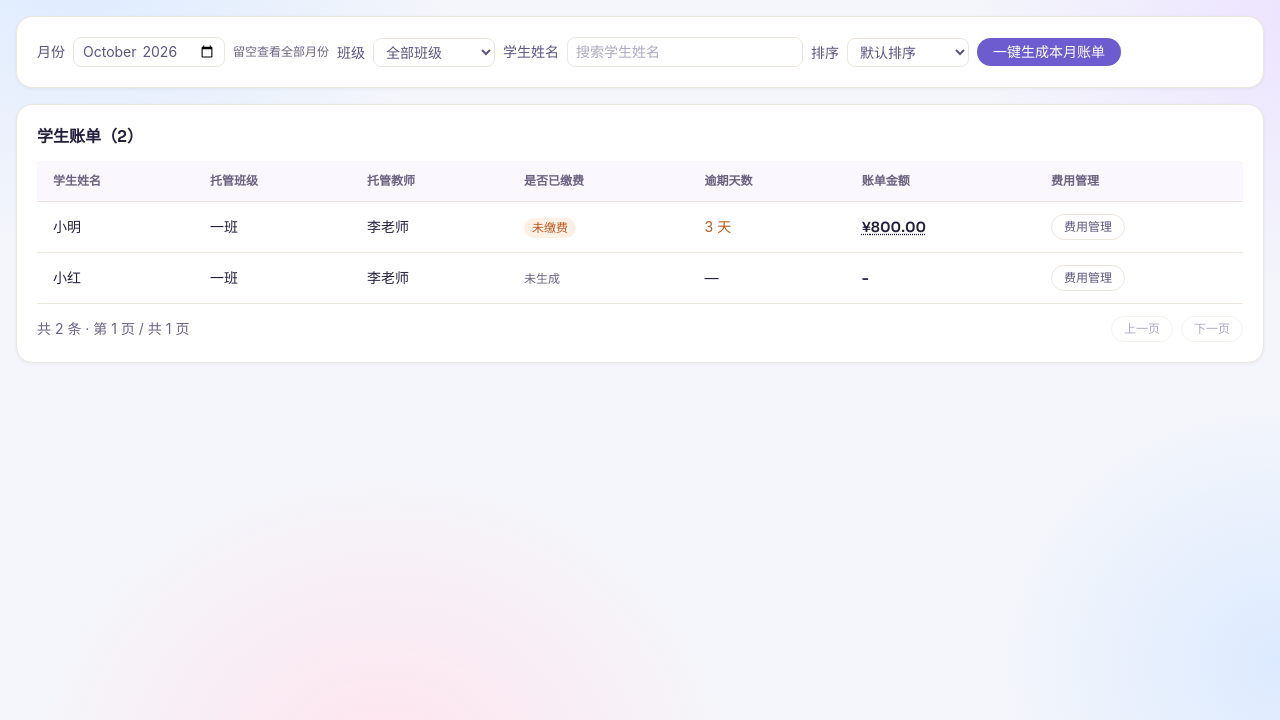
Test: AdminBillingModule › requires a payment method before confirming a paid toggle, then submits it
Expected: the text "小明" is shown, [37,202,194,252]
Step 1. Click the button "未缴费" → (550, 228), box [524,218,576,238]
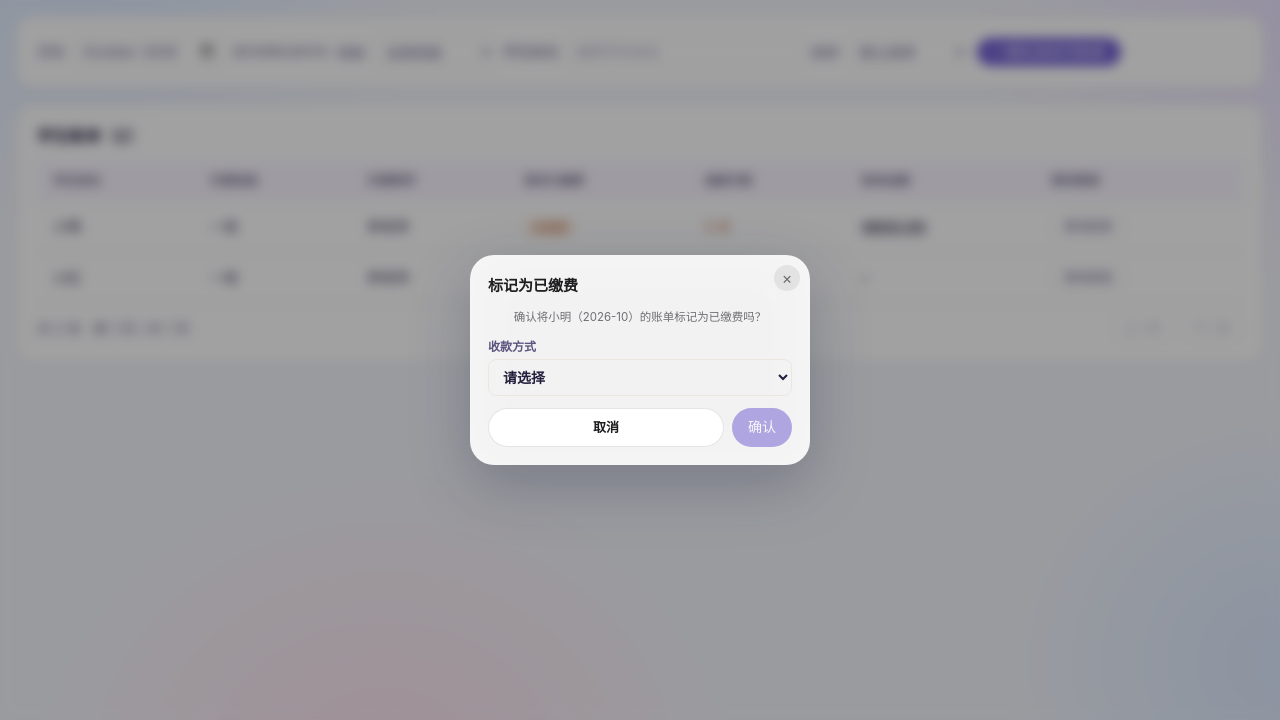
Result: the button "确认" is disabled at [732,408,792,447]
Step 2. Select "微信" in the dropdown labelled "收款方式" → (640, 377), box [488,359,792,396]
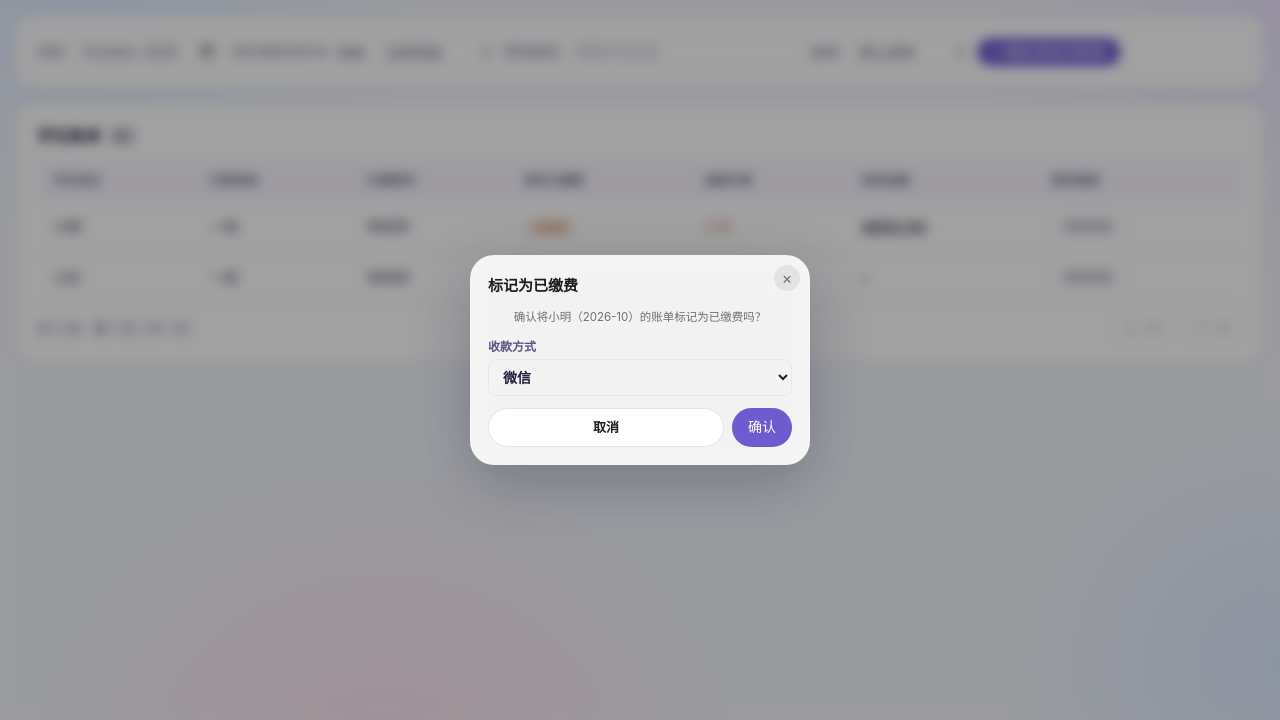
Result: the button "确认" is enabled
Step 3. Click the button "确认" → (762, 427), box [732,408,792,447]
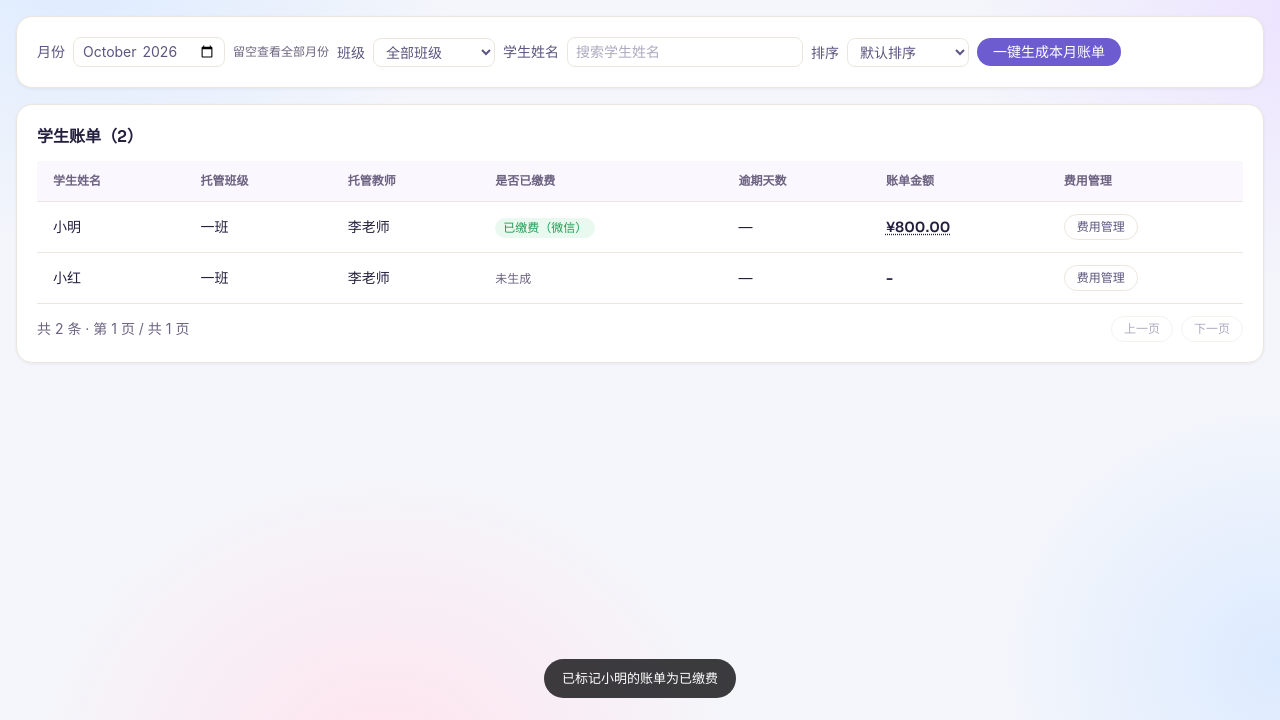
Result: the button "已缴费（微信）" is shown at [495,218,595,238]
